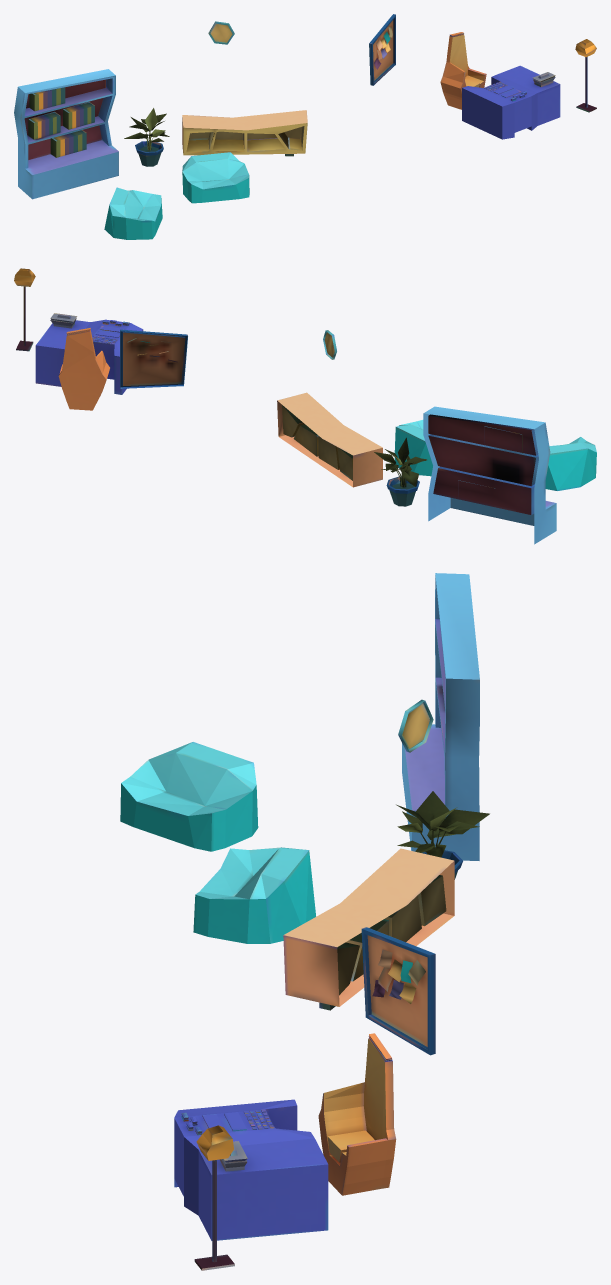
File: Orintation Assets.FBX
3 views of the same model, one above another, from view 1: azimuth 30°, elevation 25°; view 2: azimuth 150°, elevation 25°; view 3: azimuth 270°, elevation 25° (orthographic). The views are drawn at different scales.
Parts seen in each view (by area): view 1: orintation Assets; view 2: orintation Assets; view 3: orintation Assets.
Boxes of the visible parts, x1,y1,x2,y2 form: orintation Assets: (14, 14, 596, 239); orintation Assets: (14, 268, 596, 544); orintation Assets: (120, 573, 489, 1270).
Bounding box in the file's own units: 2609 × 806 × 625.
1 material, 1 textured.
